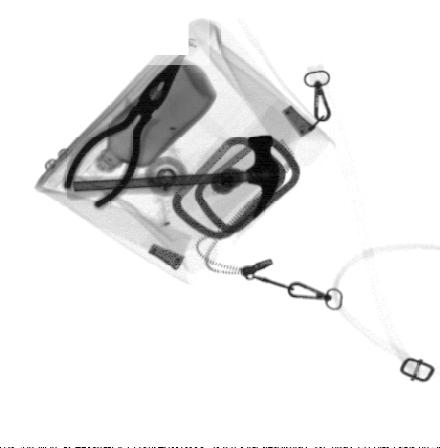Hammer: (64, 132, 282, 218)
Pliers: (62, 49, 186, 211)
